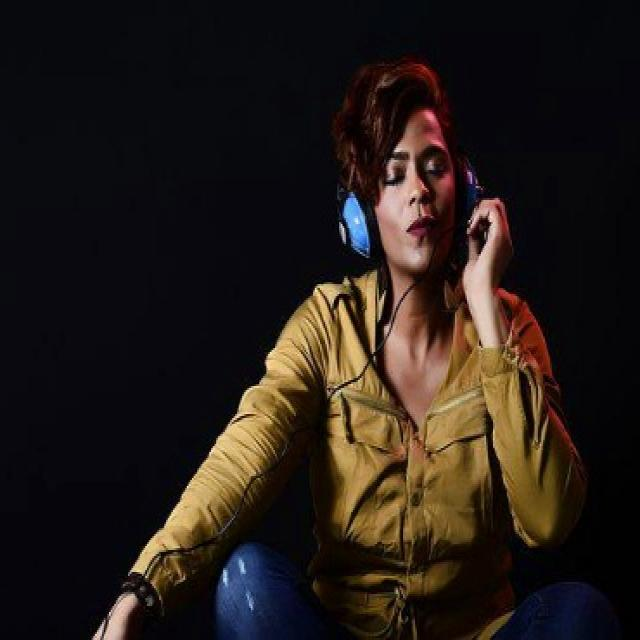adult: (92, 56, 581, 640)
